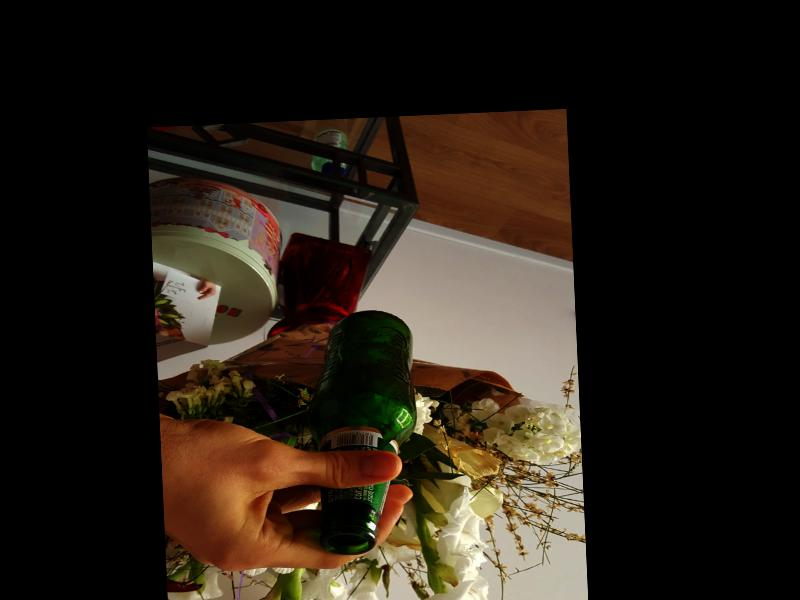Beer: (304, 307, 423, 554)
